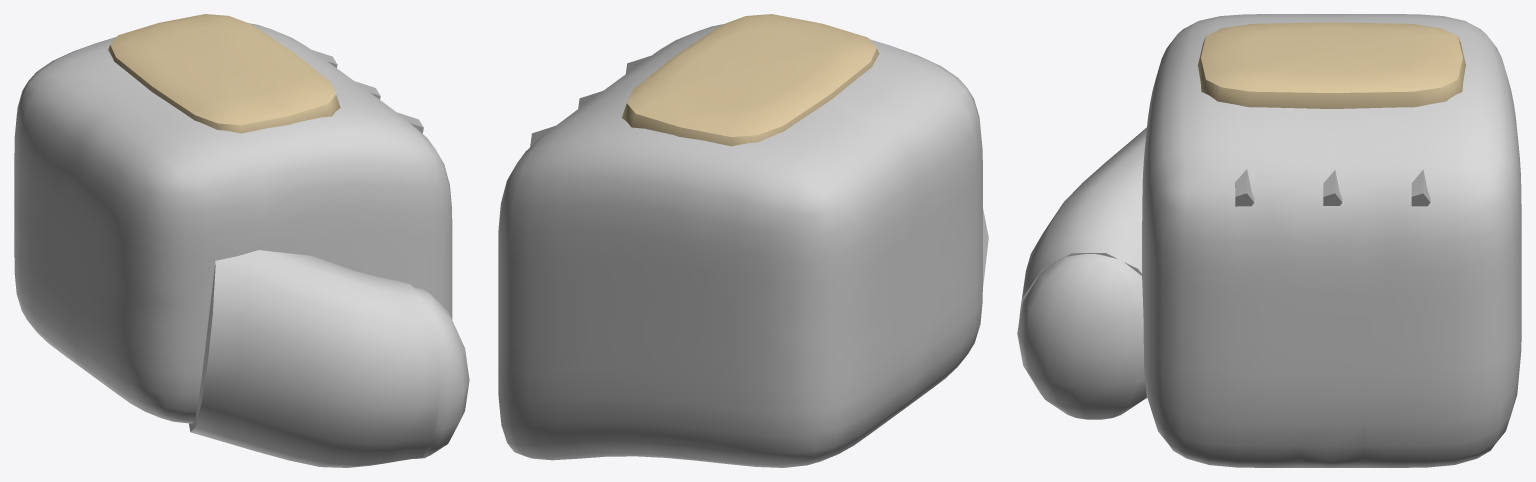
Rendered from SM_Crew_FPHandL.fbx.
3 renders of one model, left to right at view 1: azimuth 30°, elevation 25°; view 2: azimuth 150°, elevation 25°; view 3: azimuth 270°, elevation 25°, orthographic. The views are drawn at different scales.
Parts seen in each view (by area): view 1: SM_Crew_FPHandL; view 2: SM_Crew_FPHandL; view 3: SM_Crew_FPHandL.
Part boxes in pixels (box(x1,y1,x2,y2)): SM_Crew_FPHandL: box(14, 14, 469, 467); SM_Crew_FPHandL: box(498, 14, 988, 467); SM_Crew_FPHandL: box(1017, 14, 1521, 467).
Bounding box in the file's own units: 91.41 × 94.28 × 124.
